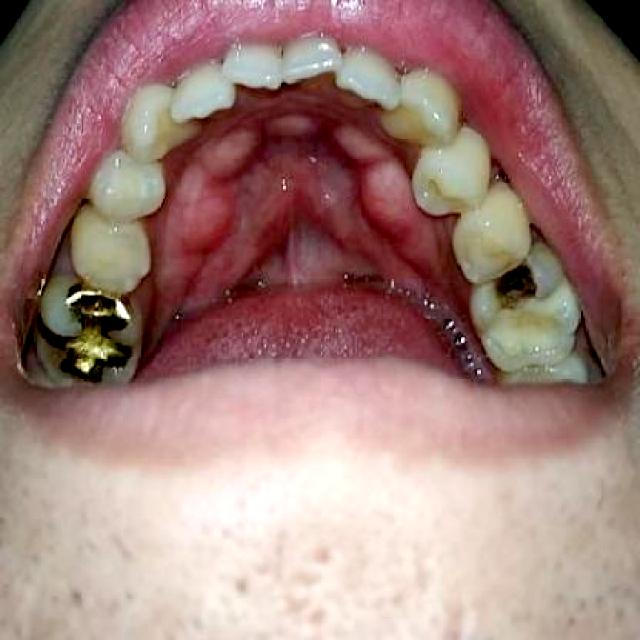Plaque: (482, 260, 558, 320)
